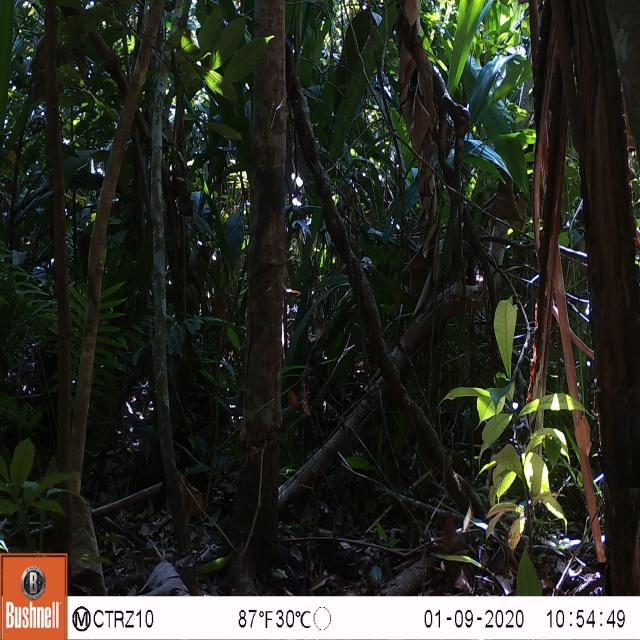White-tailed Deer: (2, 3, 637, 595)
